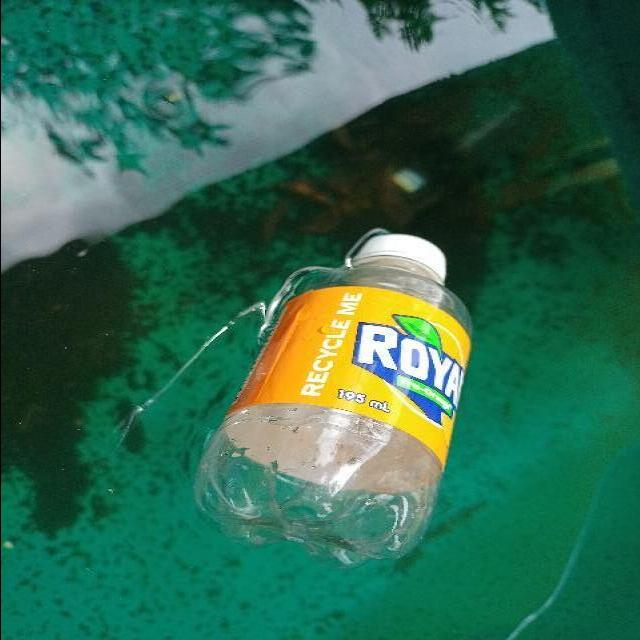Bottle: (187, 219, 483, 580)
